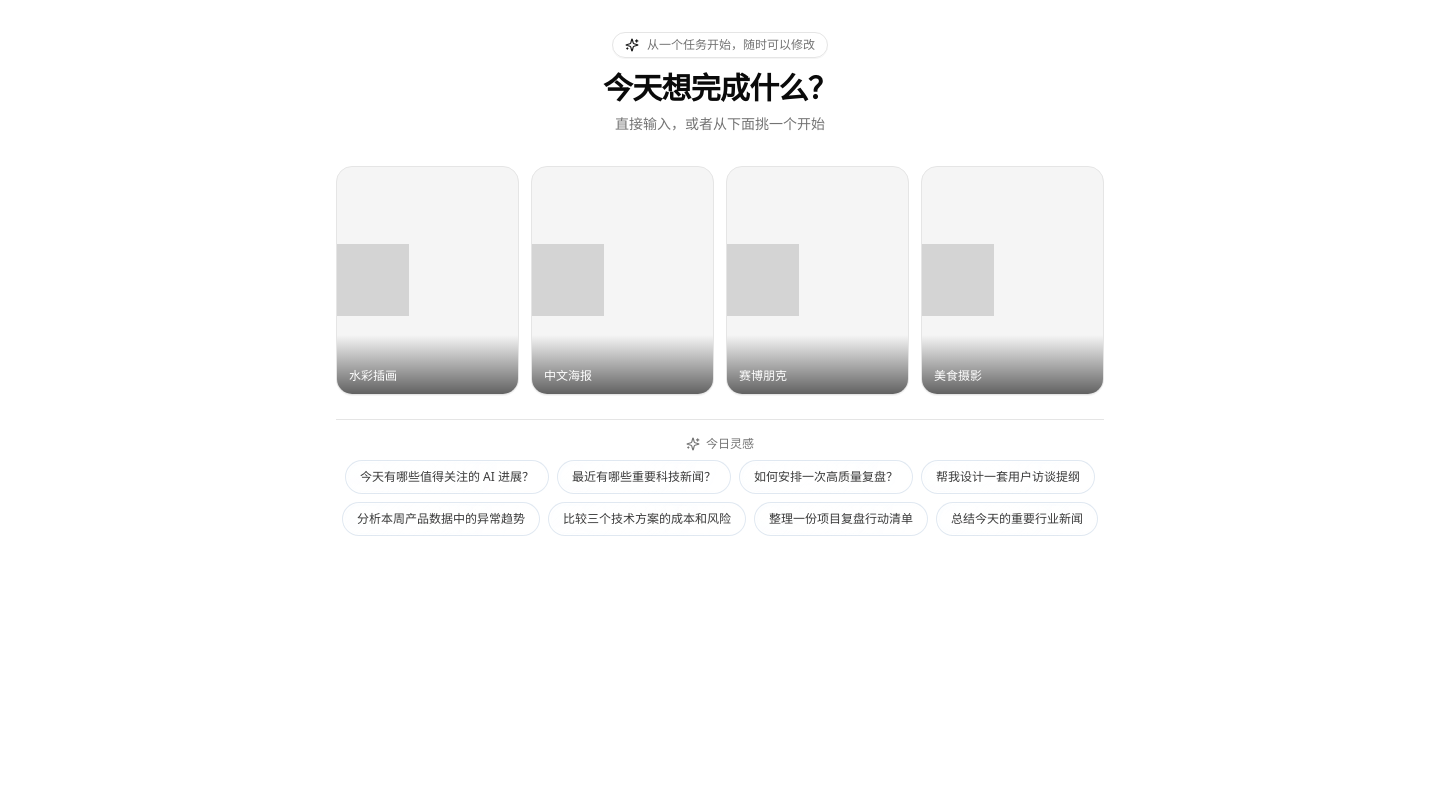
Test: HomePage › 预览里按钮和左右方向键按图片池顺序循环切换
Click the button with aria-label "查看大图：水彩插画" at (428, 280), box [336, 166, 519, 395]
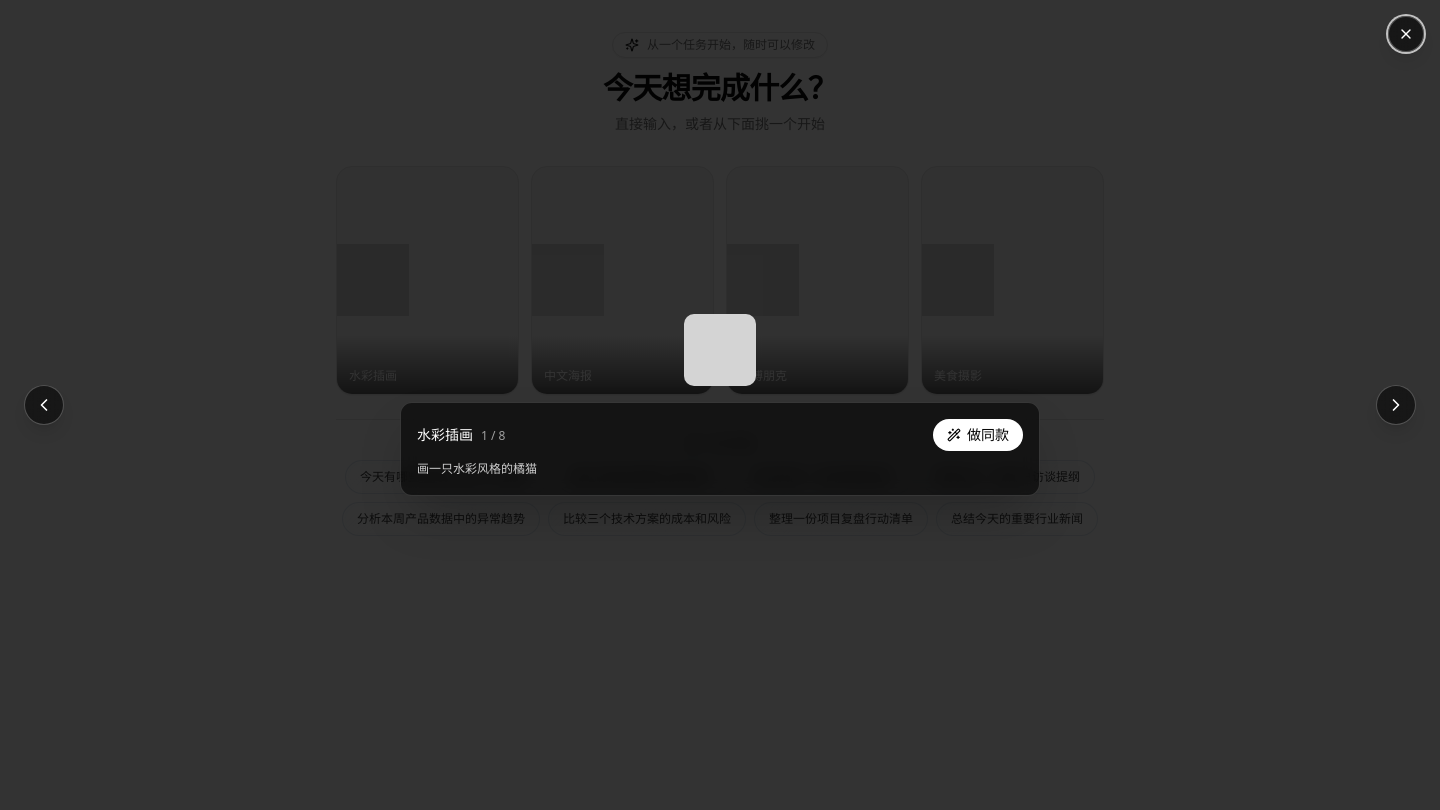
expect the text "1 / 8" is shown: met, box [481, 428, 506, 444]
Click the button named "下一张" at (1396, 405), box [1376, 385, 1416, 425]
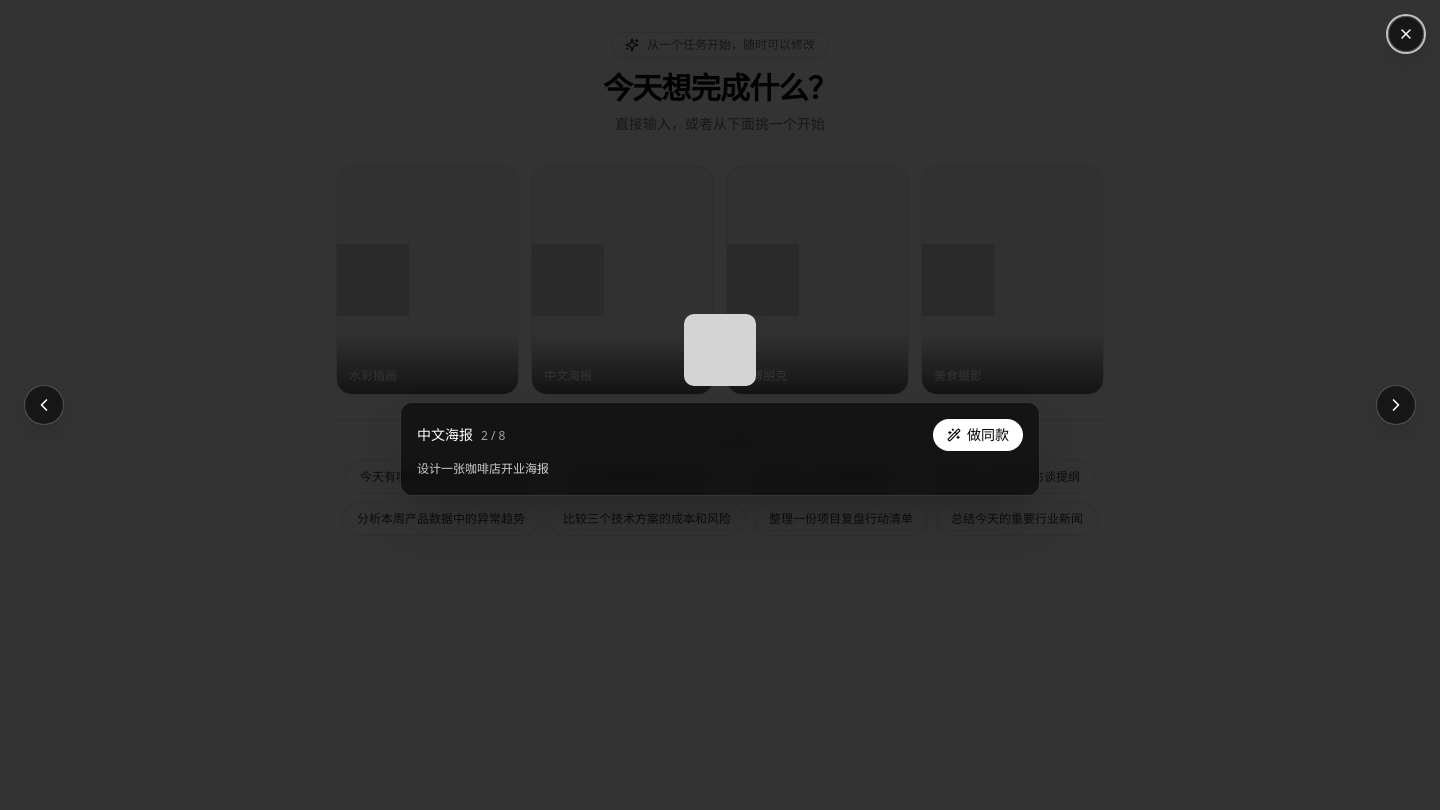
expect the text "设计一张咖啡店开业海报" is shown: met, box [417, 460, 549, 477]
expect the text "2 / 8" is shown: met, box [481, 428, 506, 444]
Press ArrowLeft in the dialog
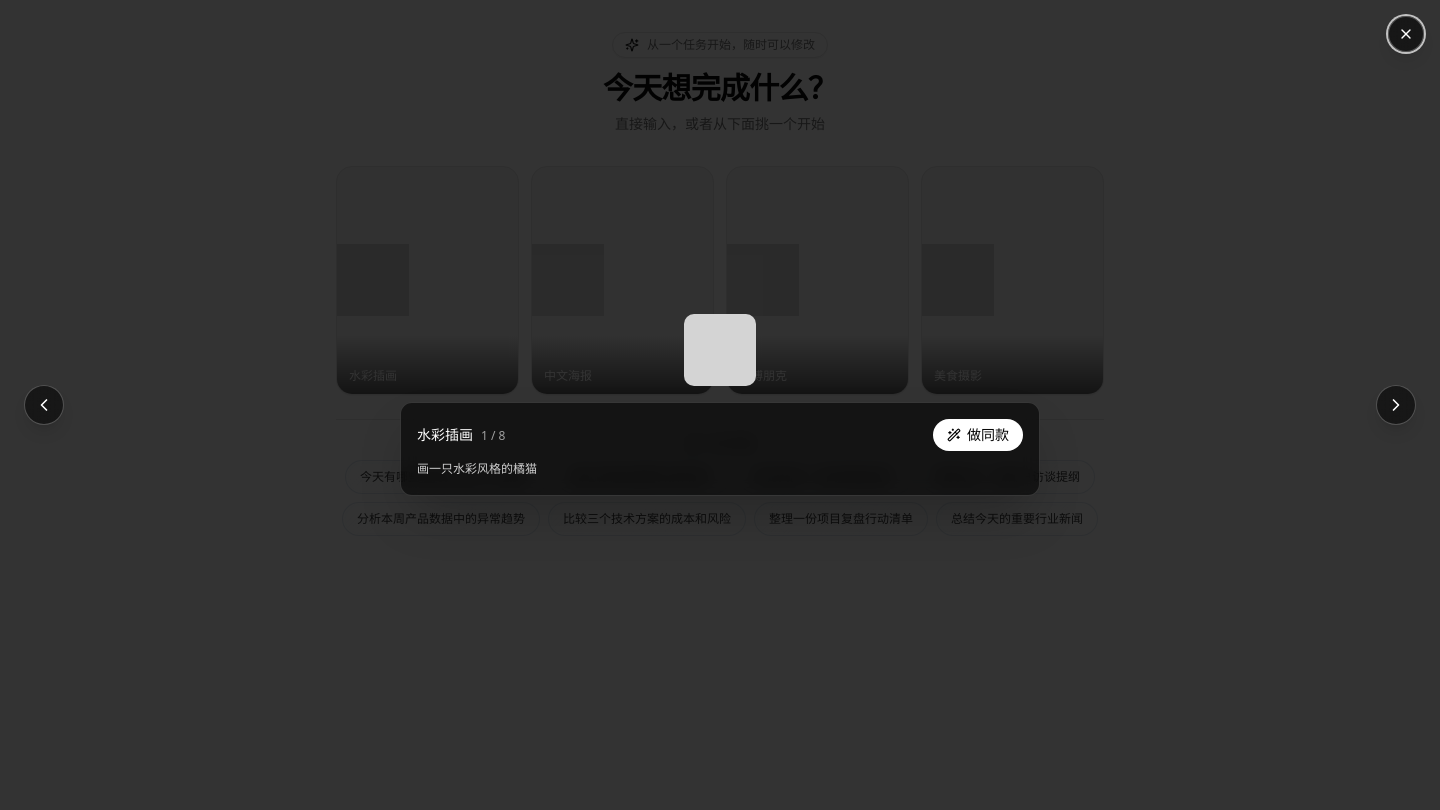
Press ArrowLeft in the dialog
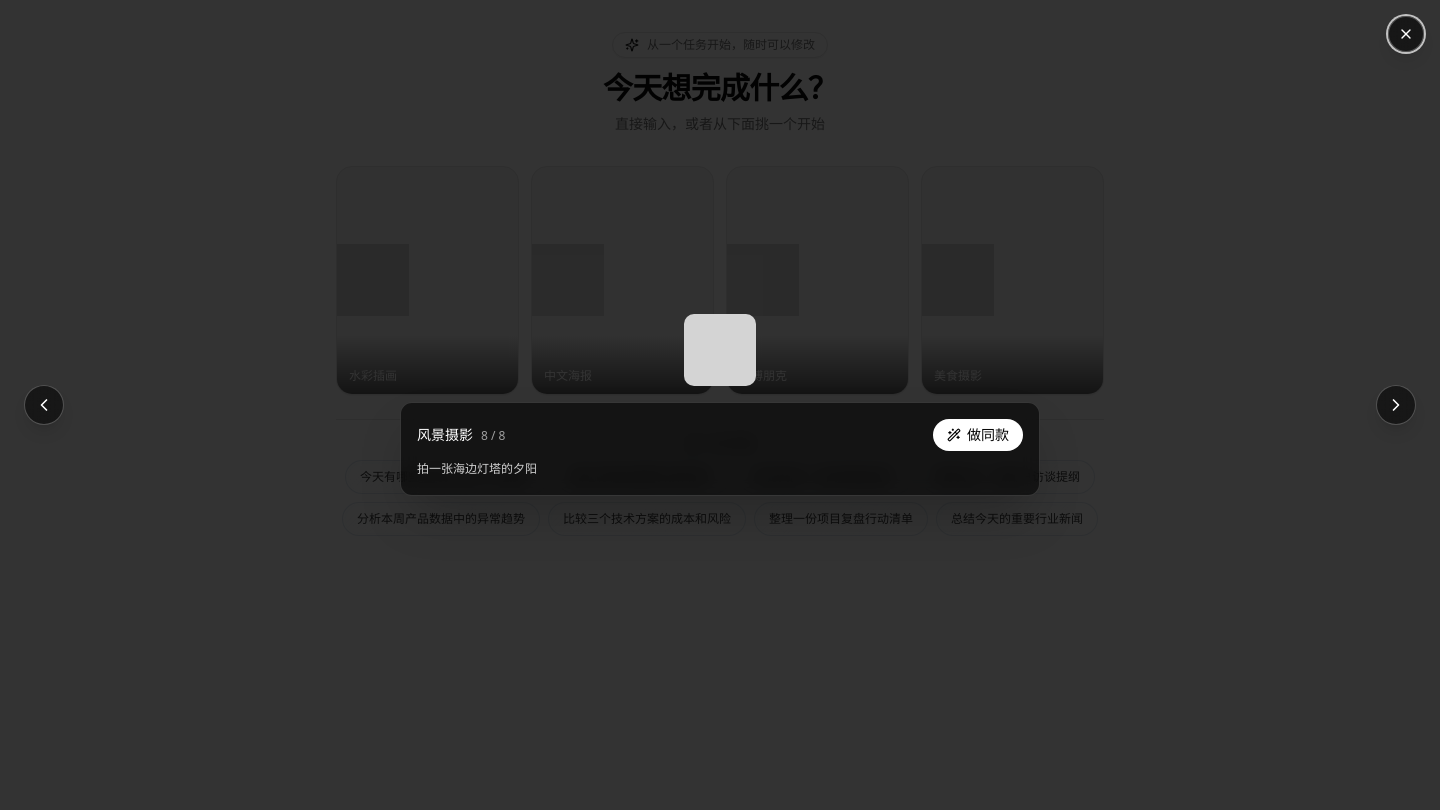
expect the text "拍一张海边灯塔的夕阳" is shown: met, box [417, 460, 537, 477]
expect the text "8 / 8" is shown: met, box [481, 428, 506, 444]
